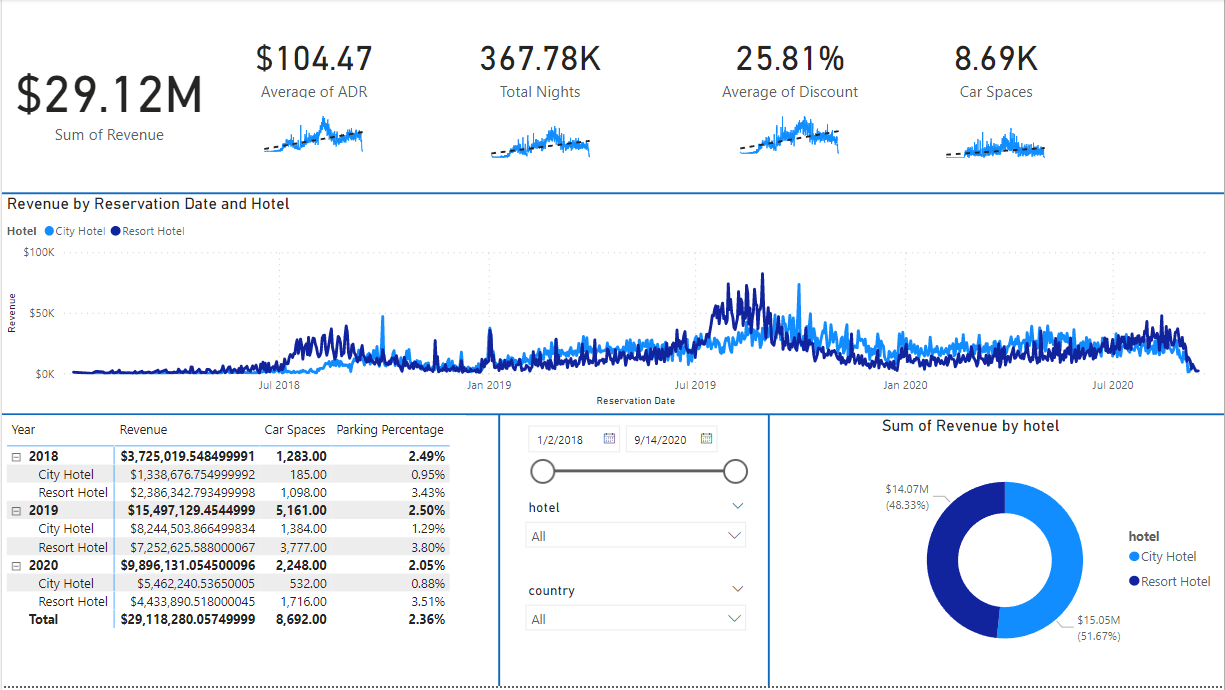

What the dashboard file says about the page in this screenshot:
{"tool":"powerbi","page":{"name":"Page 1","canvas":[1280,720],"ordinal":0},"visuals":[{"type":"card","fields":{"Values":["Sum(Query1.Revenue)"]},"box":[0,35,224.7,137.1],"z":0},{"type":"card","fields":{"Values":["Avg(Query1.adr)"]},"box":[208.1,0,237.3,137.1],"z":1000},{"type":"card","fields":{"Values":["Query1.Total Nights"]},"box":[445.5,0,237.3,137.1],"z":2000},{"type":"card","fields":{"Values":["Avg(Query1.Discount)"]},"box":[707.1,0,237.3,137.1],"z":3000},{"type":"lineChart","fields":{"Y":["Sum(Query1.Revenue)"],"Category":["Query1.reservation_status_date"],"Series":["Query1.hotel"]},"box":[0,204.3,1280,226.6],"z":4000},{"type":"slicer","fields":{"Values":["Query1.country"]},"box":[538.4,606.5,251.4,61.8],"z":5000},{"type":"slicer","fields":{"Values":["Query1.hotel"]},"box":[538.4,519.5,251.4,60.8],"z":6000},{"type":"lineChart","fields":{"Y":["Sum(Query1.adr)"],"Category":["Query1.reservation_status_date"]},"box":[259.7,104.1,133.3,62.2],"z":7000},{"type":"lineChart","fields":{"Category":["Query1.reservation_status_date"],"Y":["Query1.Total Nights"]},"box":[497,109.9,133.3,62.2],"z":8000},{"type":"lineChart","fields":{"Category":["Query1.reservation_status_date"],"Y":["Sum(Query1.Discount)"]},"box":[758.7,106,133.3,62.2],"z":9000},{"type":"card","fields":{"Values":["Sum(Query1.required_car_parking_spaces)"]},"box":[923,0,237.3,137.1],"z":10000},{"type":"lineChart","fields":{"Category":["Query1.reservation_status_date"],"Y":["Sum(Query1.required_car_parking_spaces)"]},"box":[974.6,109.9,133.3,62.2],"z":11000},{"type":"shape","box":[0,187.5,1280,32.5],"z":12000},{"type":"shape","box":[0,419,1280,32.5],"z":13000},{"type":"donutChart","fields":{"Category":["Query1.hotel"],"Y":["Sum(Query1.Revenue)"]},"box":[916.6,437.2,363.4,282.8],"z":14000},{"type":"pivotTable","fields":{"Rows":["Query1.reservation_status_date.Variation.Date Hierarchy.Year","Query1.hotel"],"Values":["Sum(Query1.Revenue)","Sum(Query1.required_car_parking_spaces)","Query1.Parking Percentage"]},"box":[0,435.3,486.1,284.8],"z":15000},{"type":"slicer","fields":{"Values":["Query1.reservation_status_date"]},"box":[538.4,436.8,251.4,82.7],"z":16000},{"type":"shape","box":[502.8,435.7,35.6,283.9],"z":17000},{"type":"shape","box":[777.2,435.7,52.4,283.9],"z":18000}]}

Visuals, with their boxes in screenshot pixels (x1, y1, x2, y2), scaled from the page's 1280x720 canvas onto the 1225x690 screenshot:
card - Sum(Query1.Revenue): {"x1": 0, "y1": 34, "x2": 215, "y2": 165}
card - Avg(Query1.adr): {"x1": 199, "y1": 0, "x2": 426, "y2": 131}
card - Query1.Total Nights: {"x1": 426, "y1": 0, "x2": 653, "y2": 131}
card - Avg(Query1.Discount): {"x1": 677, "y1": 0, "x2": 904, "y2": 131}
lineChart - Sum(Query1.Revenue) x Query1.reservation_status_date: {"x1": 0, "y1": 196, "x2": 1224, "y2": 413}
slicer - Query1.country: {"x1": 515, "y1": 581, "x2": 756, "y2": 640}
slicer - Query1.hotel: {"x1": 515, "y1": 498, "x2": 756, "y2": 556}
lineChart - Sum(Query1.adr) x Query1.reservation_status_date: {"x1": 249, "y1": 100, "x2": 376, "y2": 159}
lineChart - Query1.reservation_status_date x Query1.Total Nights: {"x1": 476, "y1": 105, "x2": 603, "y2": 165}
lineChart - Query1.reservation_status_date x Sum(Query1.Discount): {"x1": 726, "y1": 102, "x2": 854, "y2": 161}
card - Sum(Query1.required_car_parking_spaces): {"x1": 883, "y1": 0, "x2": 1110, "y2": 131}
lineChart - Query1.reservation_status_date x Sum(Query1.required_car_parking_spaces): {"x1": 933, "y1": 105, "x2": 1060, "y2": 165}
shape: {"x1": 0, "y1": 180, "x2": 1224, "y2": 211}
shape: {"x1": 0, "y1": 402, "x2": 1224, "y2": 433}
donutChart - Query1.hotel x Sum(Query1.Revenue): {"x1": 877, "y1": 419, "x2": 1224, "y2": 689}
pivotTable - Query1.reservation_status_date.Variation.Date Hierarchy.Year x Query1.hotel: {"x1": 0, "y1": 417, "x2": 465, "y2": 689}
slicer - Query1.reservation_status_date: {"x1": 515, "y1": 419, "x2": 756, "y2": 498}
shape: {"x1": 481, "y1": 418, "x2": 515, "y2": 689}
shape: {"x1": 744, "y1": 418, "x2": 794, "y2": 689}
